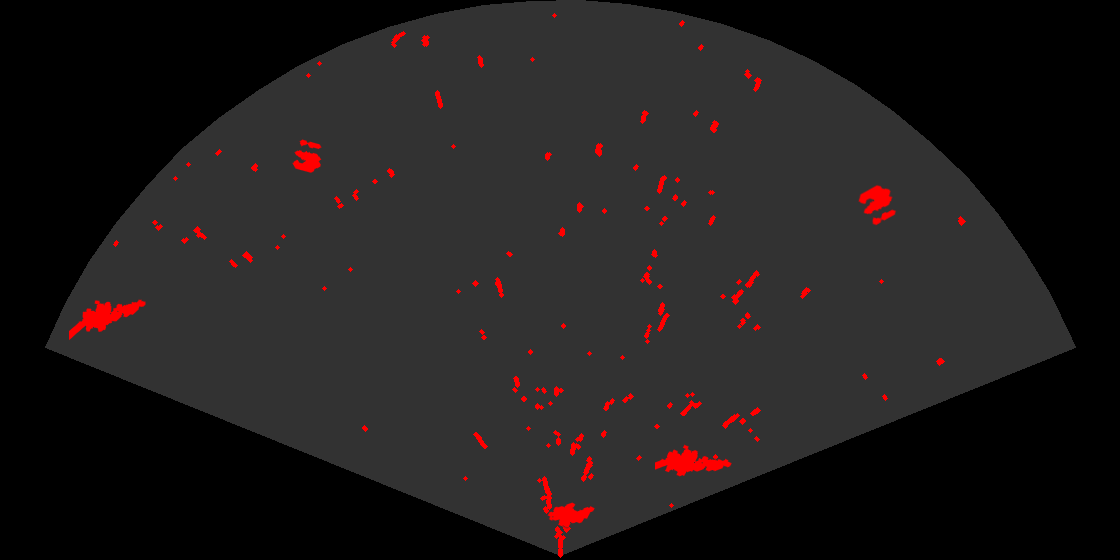AUV: (546, 501, 596, 529)
ball: (857, 183, 898, 227), (291, 138, 323, 174)
frogman: (69, 298, 147, 342), (655, 443, 733, 478)
